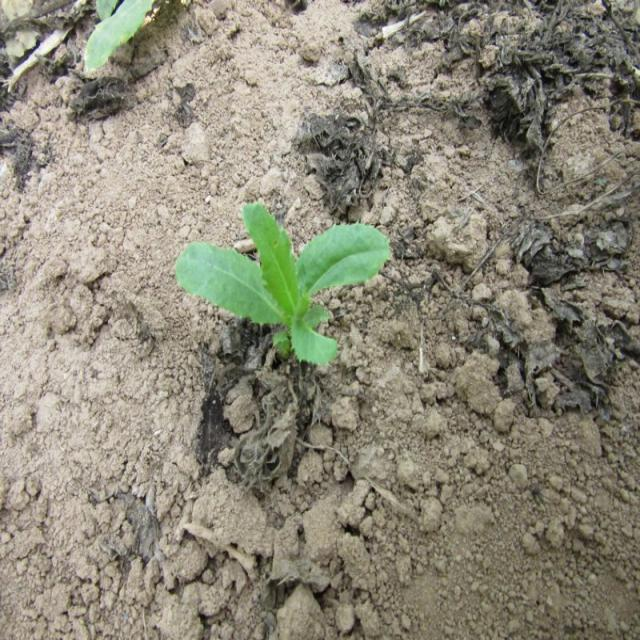cs: (172, 196, 396, 378)
